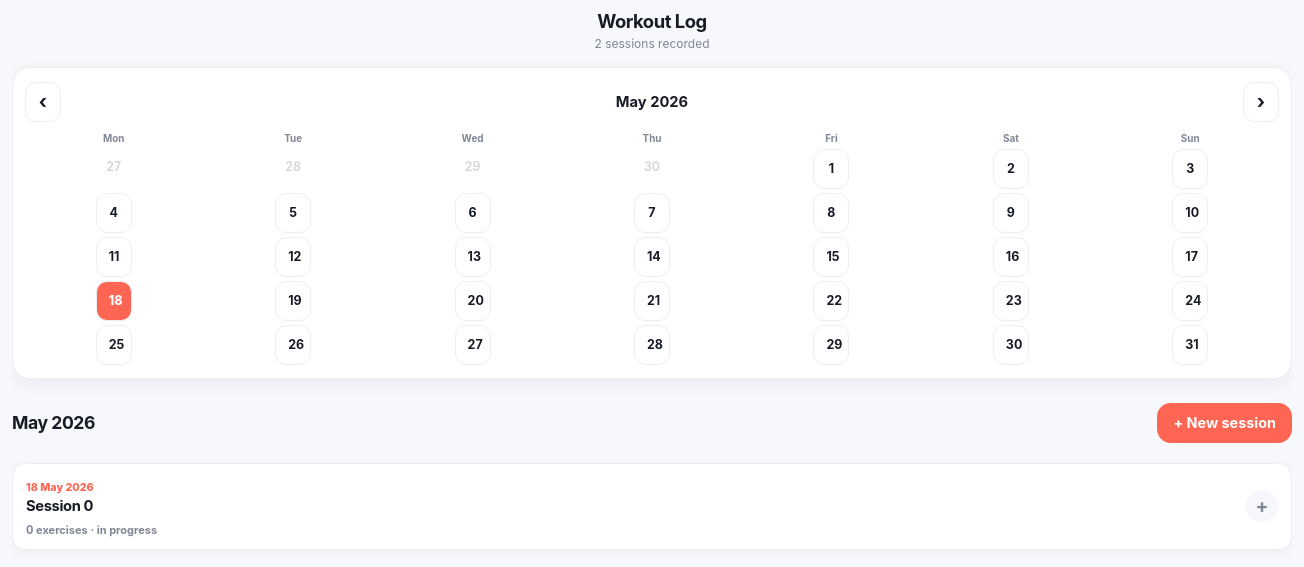
Test: WorkoutLogPage calendar › lists only the month on screen
Expected: the heading "Session 0" is shown, [26, 497, 93, 515]
Click the button named "Previous month": [43, 102] box [25, 82, 61, 122]
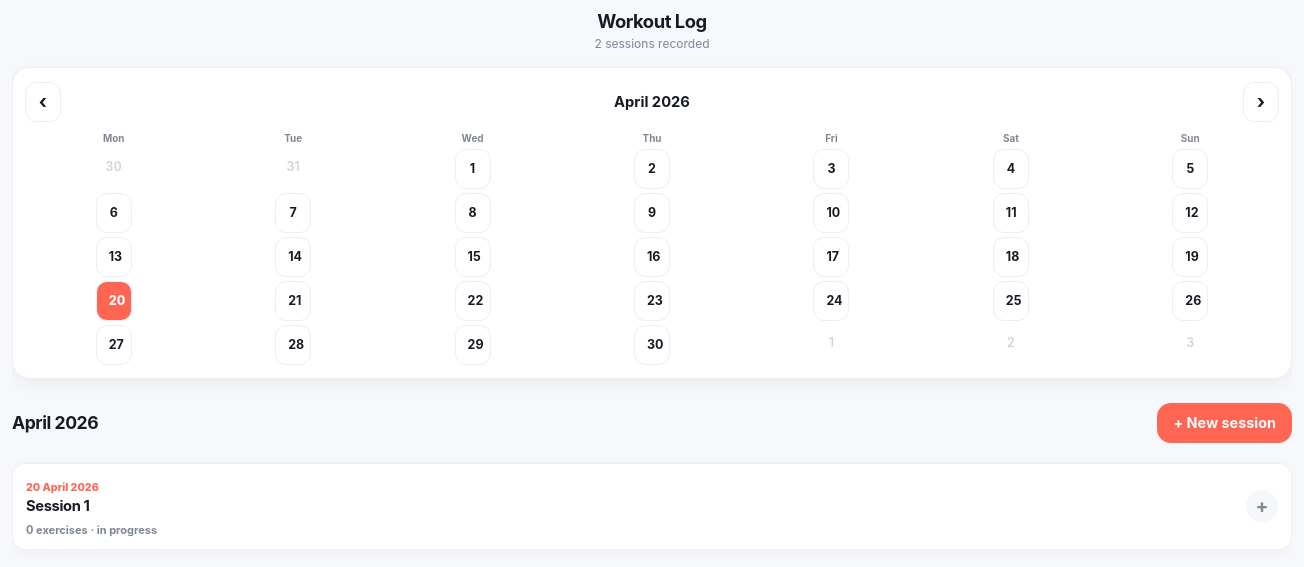
Now the button "Session 0" is gone
Now the heading "Session 1" is shown, box [26, 497, 90, 515]
